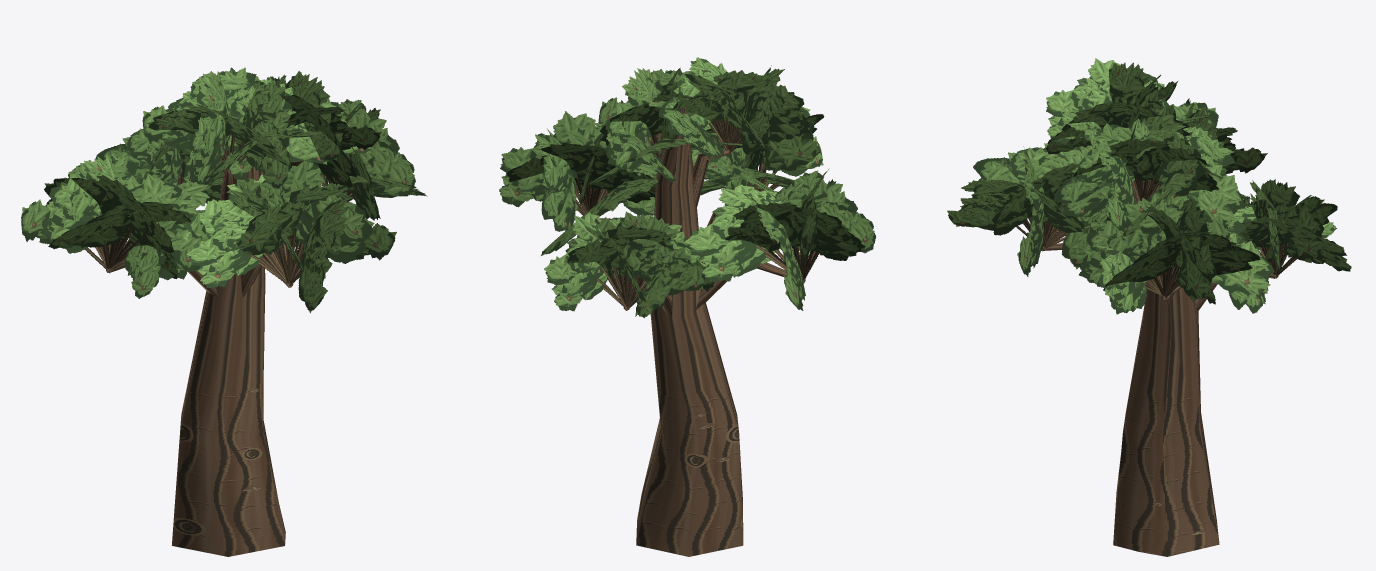
The model's file is lowland-orchard-near.glb.
The picture shows the model from 3 angles, left to right: view 1: azimuth 30°, elevation 25°; view 2: azimuth 150°, elevation 25°; view 3: azimuth 270°, elevation 25°; orthographic projection. The views are drawn at different scales.
Parts seen in each view (by area): view 1: Lowland orchard near v3 runtime; view 2: Lowland orchard near v3 runtime; view 3: Lowland orchard near v3 runtime.
Boxes of the visible parts, left/top/right/bottom form: Lowland orchard near v3 runtime: left=21, top=67, right=427, bottom=556; Lowland orchard near v3 runtime: left=499, top=57, right=875, bottom=556; Lowland orchard near v3 runtime: left=947, top=58, right=1351, bottom=556.
Bounding box in the file's own units: 4.78 × 6.05 × 4.94.
Materials: 1 (1 with a texture image).
